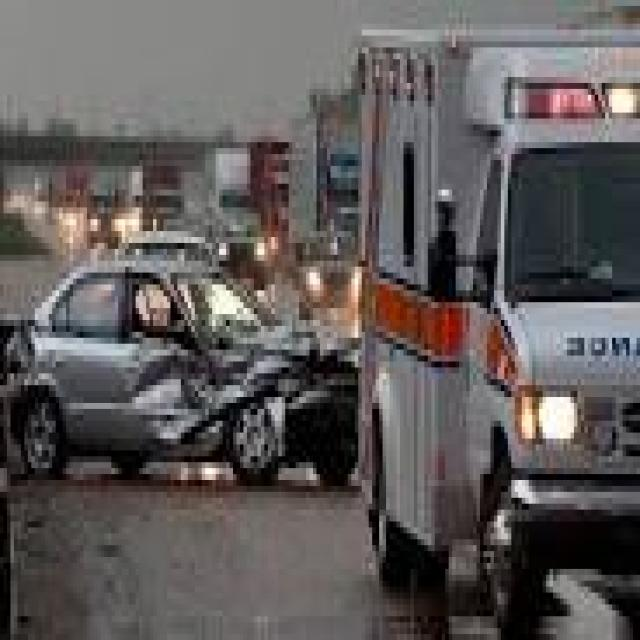Accident: (0, 196, 383, 534)
